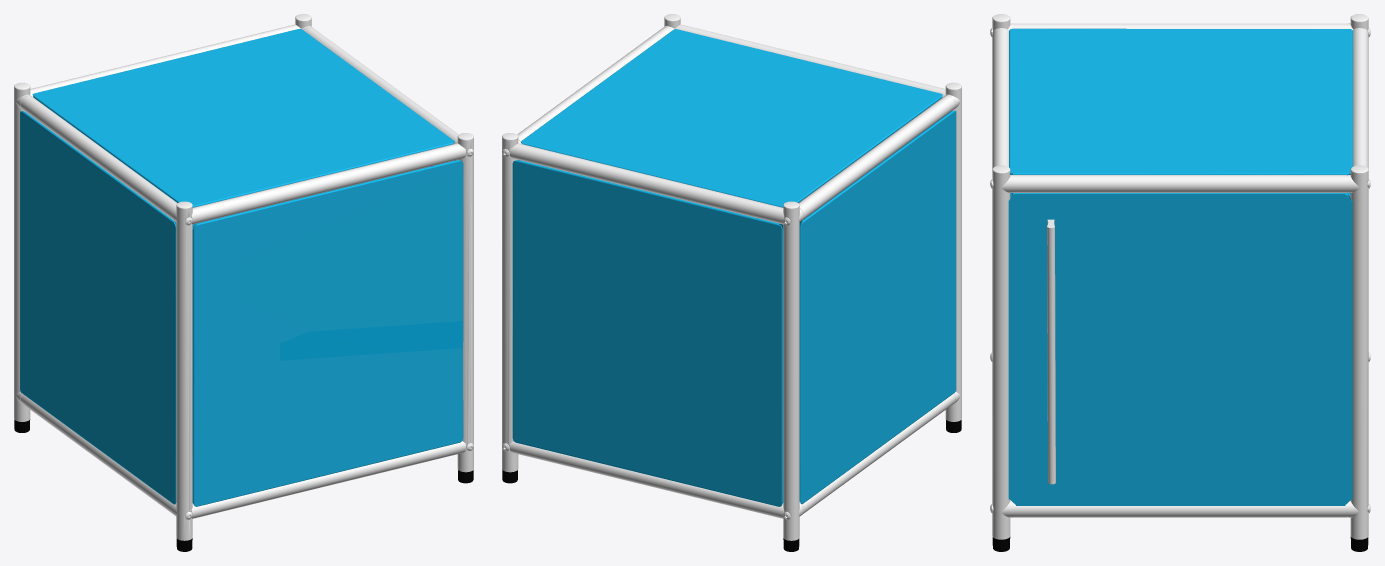
Rendered from 40x40x40-2-4-blue-opt-20-282-29.glb.
3 renders of one model, left to right at view 1: azimuth 30°, elevation 25°; view 2: azimuth 150°, elevation 25°; view 3: azimuth 270°, elevation 25°, orthographic. The views are drawn at different scales.
Visible parts, largest first — view 1: 直角鐵板-40x40-2 - 零件, 鐵管-1層-40-正常腳-32mm-4 - 零件, 圓形腳+調整器-1 - 零件; view 2: 直角鐵板-40x40-2 - 零件, 鐵管-1層-40-正常腳-32mm-4 - 零件, 圓形腳+調整器-1 - 零件; view 3: 直角鐵板-40x40-2 - 零件, 鐵管-1層-40-正常腳-32mm-4 - 零件, 圓形腳+調整器-1 - 零件.
Part boxes in pixels (x1=…): 直角鐵板-40x40-2 - 零件: x1=20, y1=28, x2=463, y2=506; 鐵管-1層-40-正常腳-32mm-4 - 零件: x1=14, y1=14, x2=473, y2=540; 圓形腳+調整器-1 - 零件: x1=14, y1=419, x2=473, y2=551; 直角鐵板-40x40-2 - 零件: x1=512, y1=29, x2=956, y2=506; 鐵管-1層-40-正常腳-32mm-4 - 零件: x1=502, y1=14, x2=961, y2=540; 圓形腳+調整器-1 - 零件: x1=502, y1=420, x2=961, y2=551; 直角鐵板-40x40-2 - 零件: x1=1008, y1=28, x2=1352, y2=505; 鐵管-1層-40-正常腳-32mm-4 - 零件: x1=990, y1=14, x2=1370, y2=539; 圓形腳+調整器-1 - 零件: x1=992, y1=537, x2=1368, y2=551.
Size of the model in its own units: 0.4203 by 0.4453 by 0.4036.
